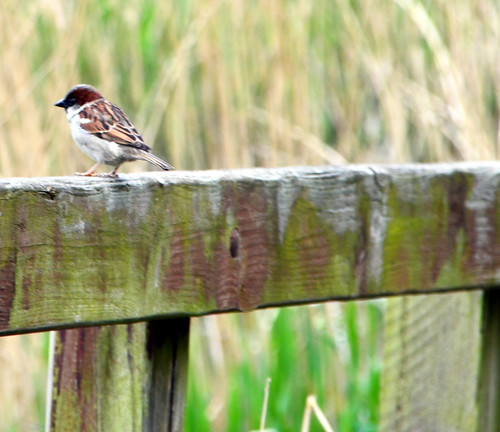animal: (52, 81, 170, 179)
